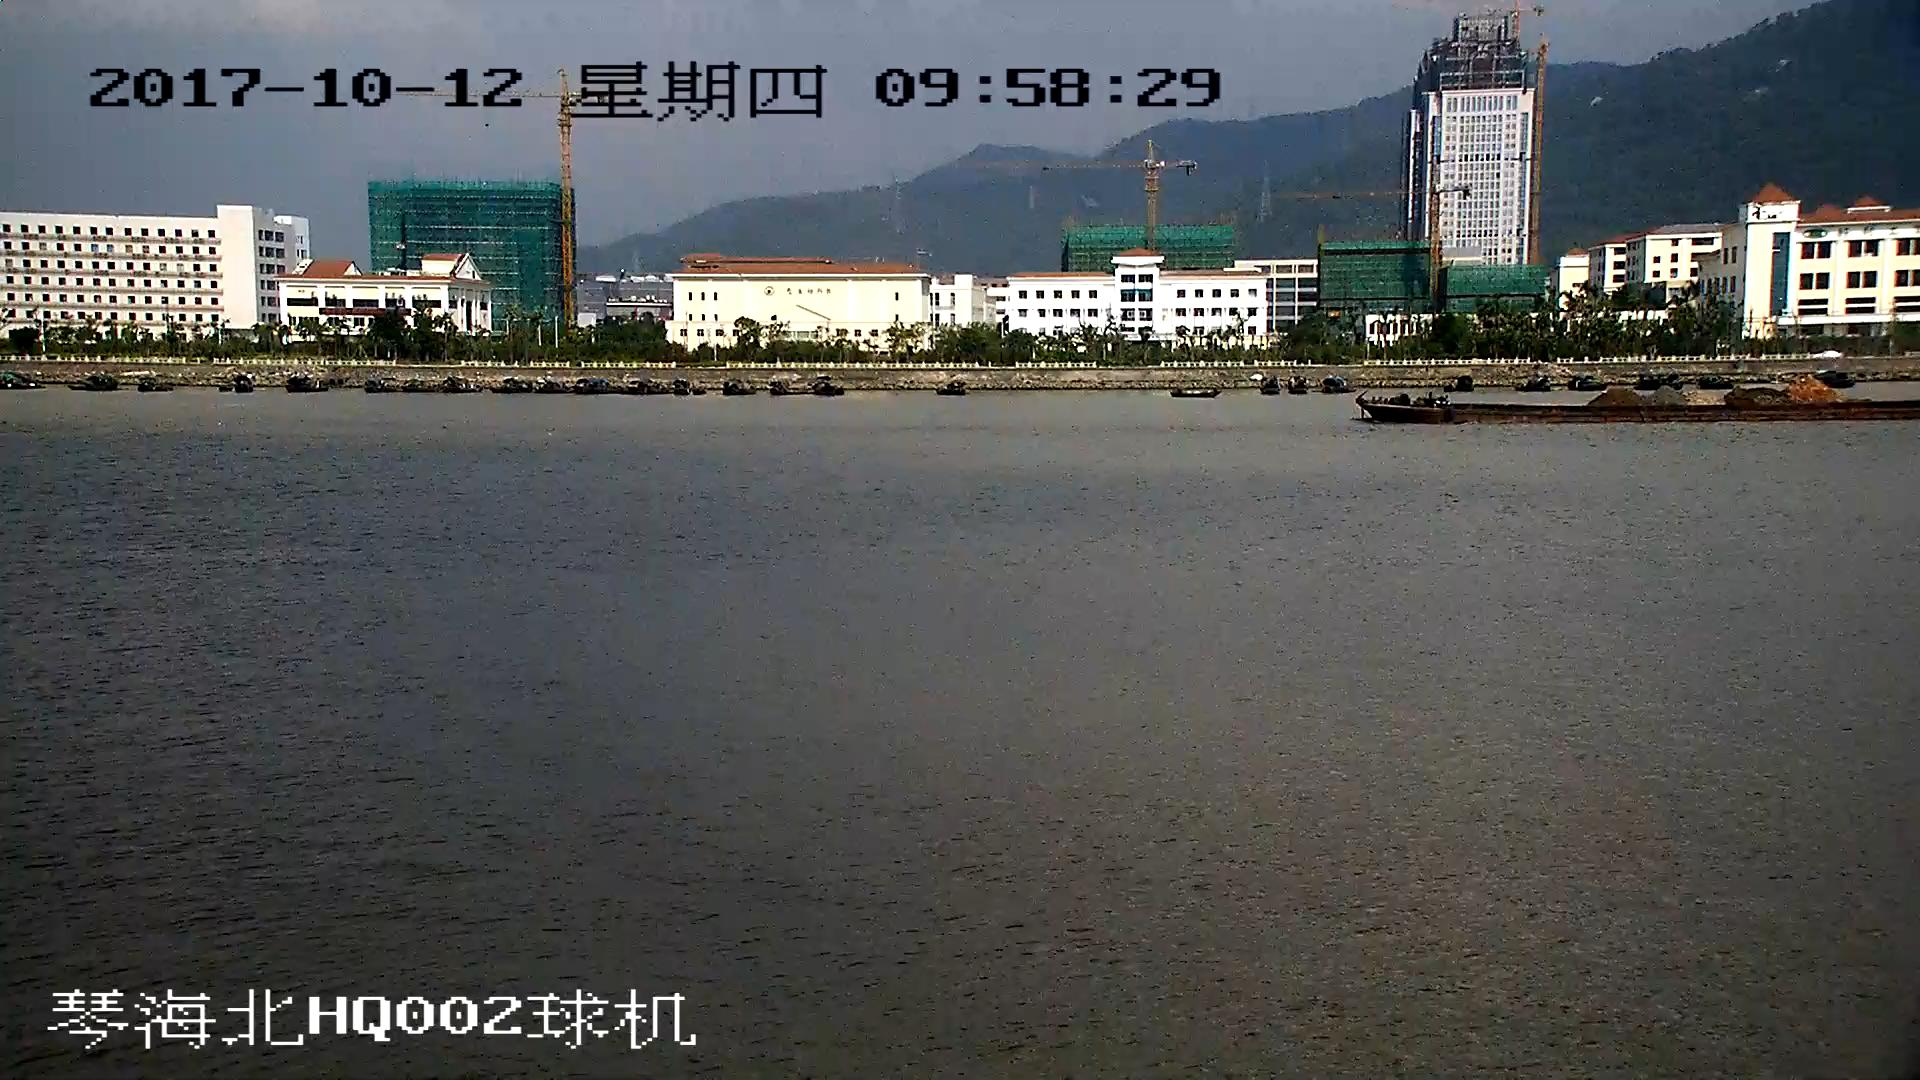ore carrier: (1360, 381, 1920, 420)
